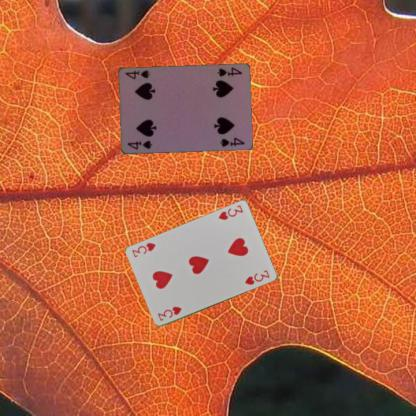3h: (216, 202, 245, 221), (155, 304, 183, 322)
4s: (214, 65, 243, 79), (125, 138, 153, 151)
